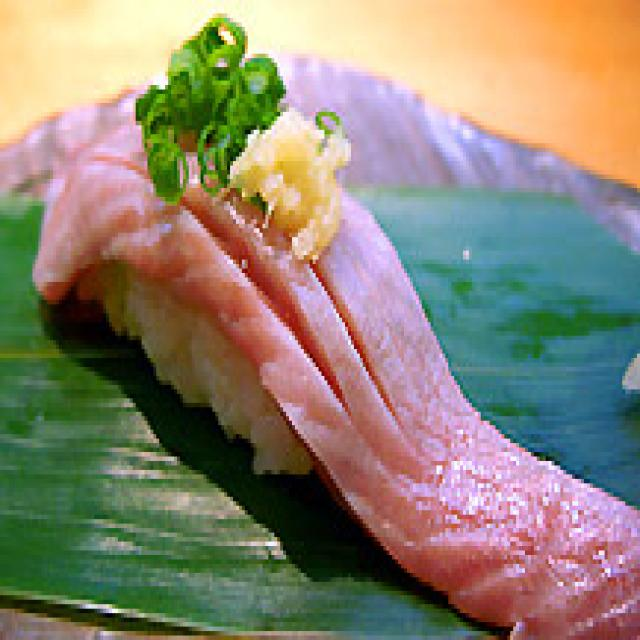寿司卷物: (29, 36, 640, 640)
